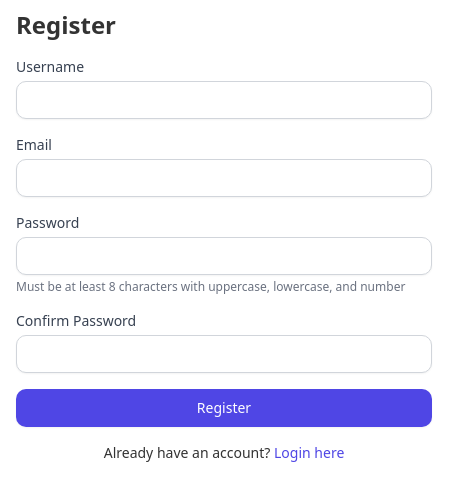
Scenario: RegistrationPage › shows error if passwords do not match
The image size is (449, 503).
Type "testuser" into the field labelled "Username" at [224, 100], box x1=16 y1=81 x2=432 y2=119
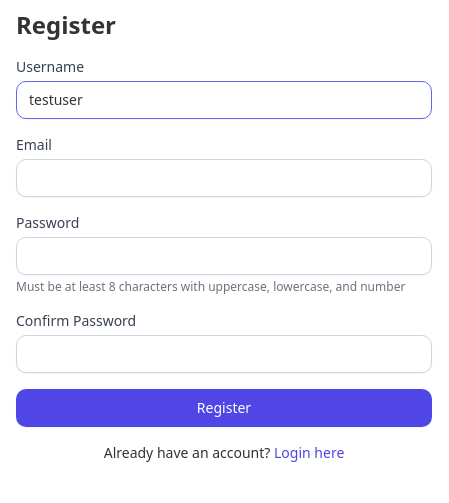
Type "test@example.com" into the field labelled "Email" at [224, 178], box x1=16 y1=159 x2=432 y2=197
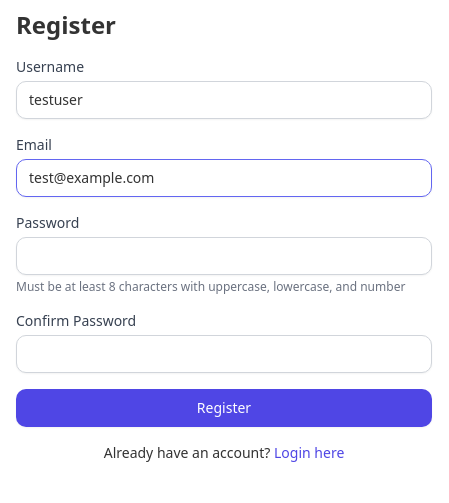
Type "Password123" into the password field labelled "Password" at [224, 256], box x1=16 y1=237 x2=432 y2=275
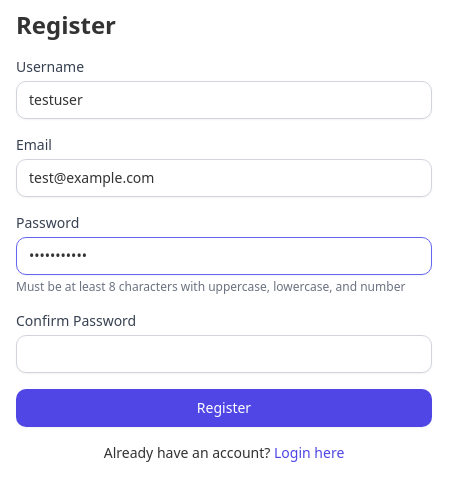
Type "Different123" into the password field labelled "Confirm Password" at [224, 354], box x1=16 y1=335 x2=432 y2=373
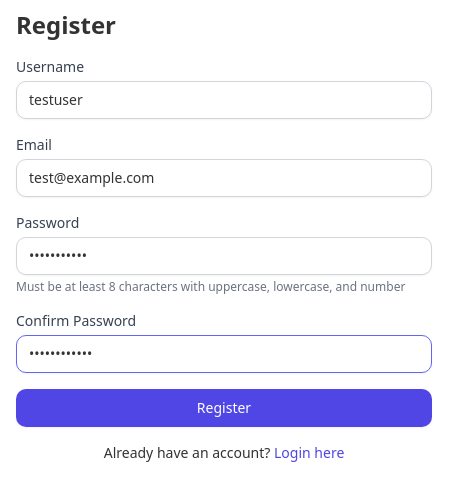
Click the button "Register" at [224, 408], box x1=16 y1=389 x2=432 y2=427
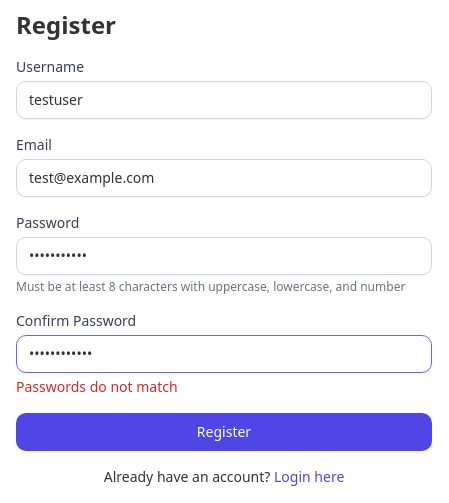
Expected: the text "Passwords do not match" is shown, x1=16 y1=377 x2=178 y2=396
